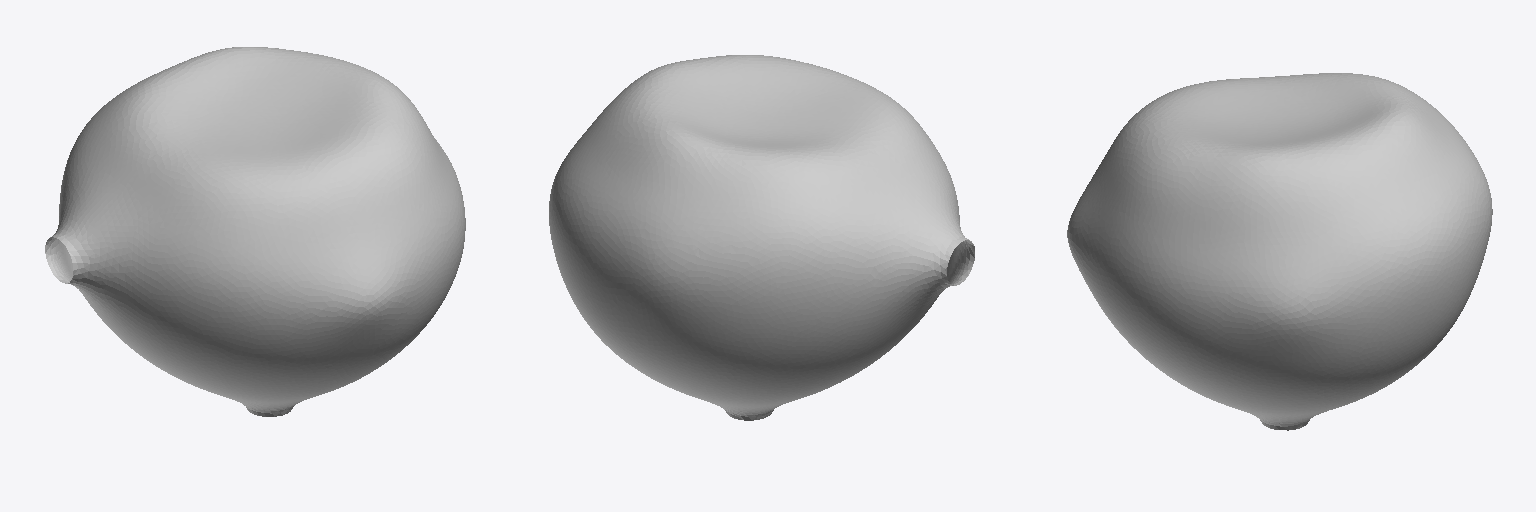
File: TP0_Ch0_Ill0_Ang0,45,90,135,180,225,270,315_16bit_DS_mesh_remeshed.obj
The picture shows the model from 3 angles: view 1: azimuth 30°, elevation 25°; view 2: azimuth 150°, elevation 25°; view 3: azimuth 270°, elevation 25°; orthographic projection.
Size of the model in its own units: 381 by 293 by 360.